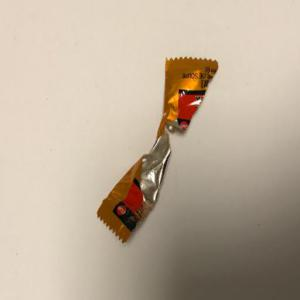Trash: (97, 56, 220, 245)
